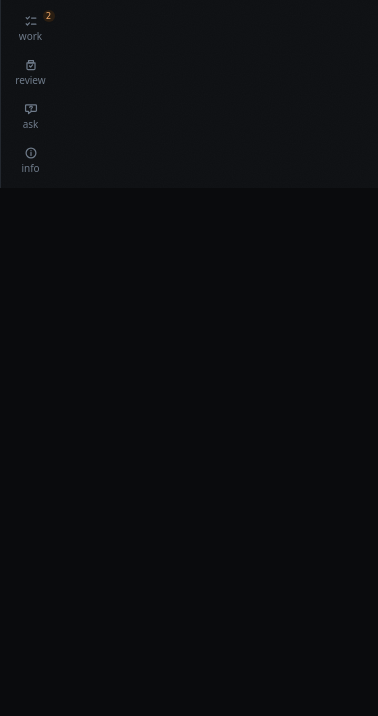
Test case: desktop InspectorRail › Info has no tab row; its header names the group
This screenshot has width=378, height=716.
What coordinates should you click on to do the following:
click the button "info"
I would click on:
 (30, 160)
Its box is [4,140,56,180].
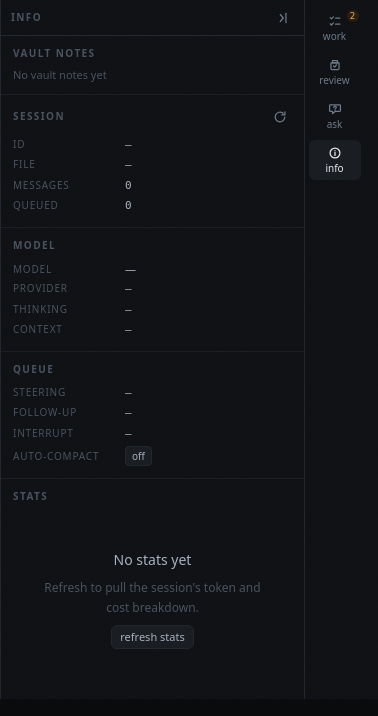
Expected: the text "session" is shown, [13,109,65,123]
